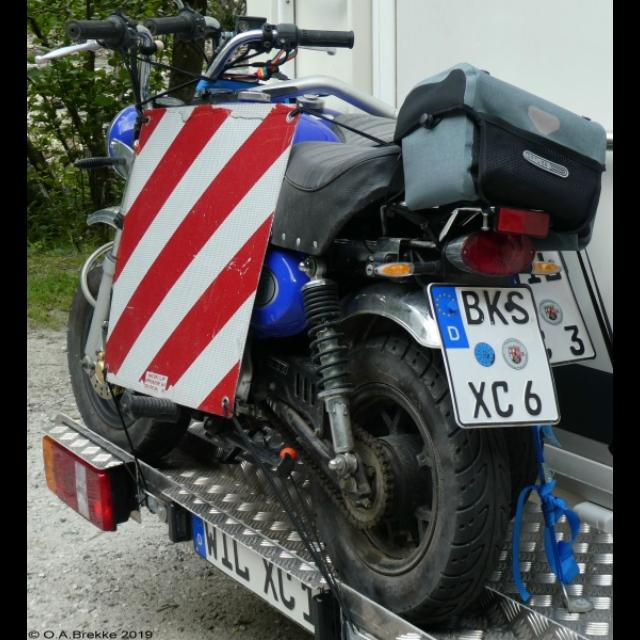d_license_plate: (424, 282, 558, 426)
